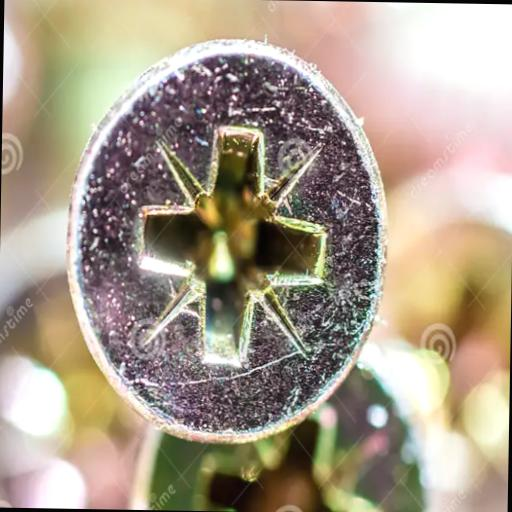Phillips: (66, 35, 388, 456)
